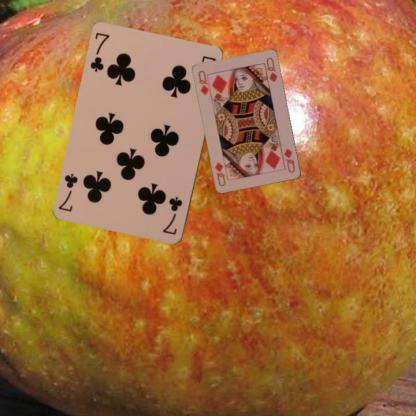7c: (88, 30, 111, 74), (160, 194, 184, 236)
Qd: (196, 68, 214, 97), (282, 146, 296, 174)
